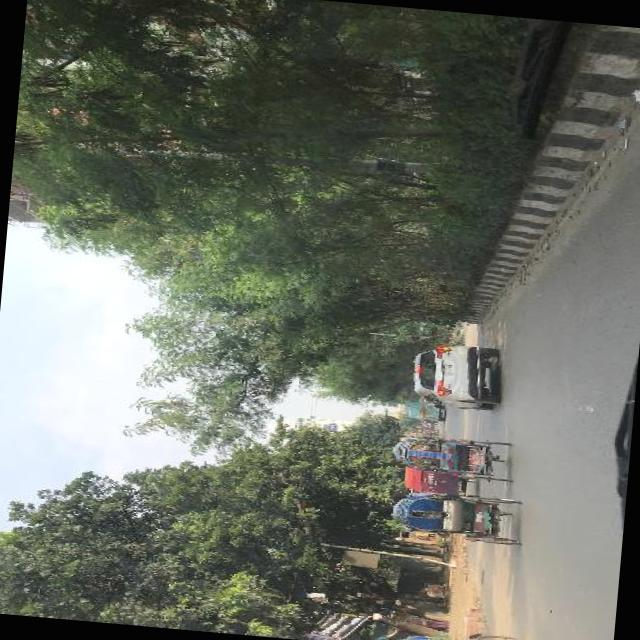bus: (402, 402, 444, 422)
car: (411, 340, 503, 410)
motorcycle: (388, 487, 522, 545), (389, 431, 514, 481), (384, 624, 545, 640)
